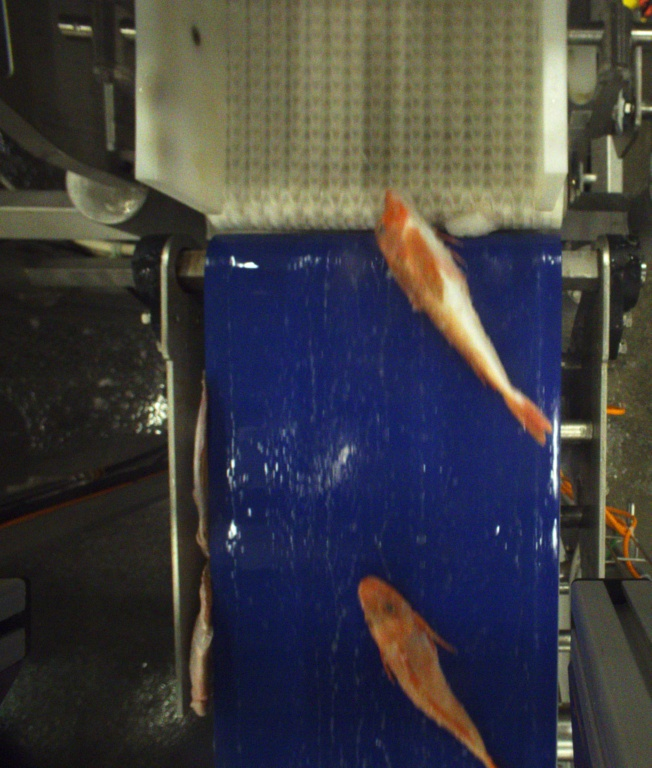GUU: (374, 187, 555, 448)
